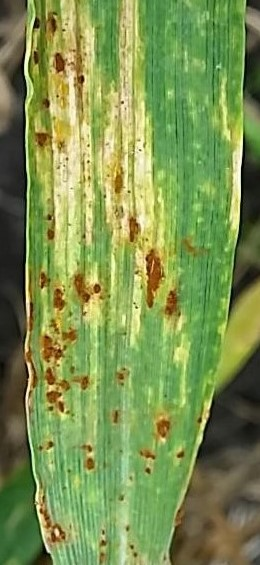Leaf Rust: (10, 92, 193, 542)
